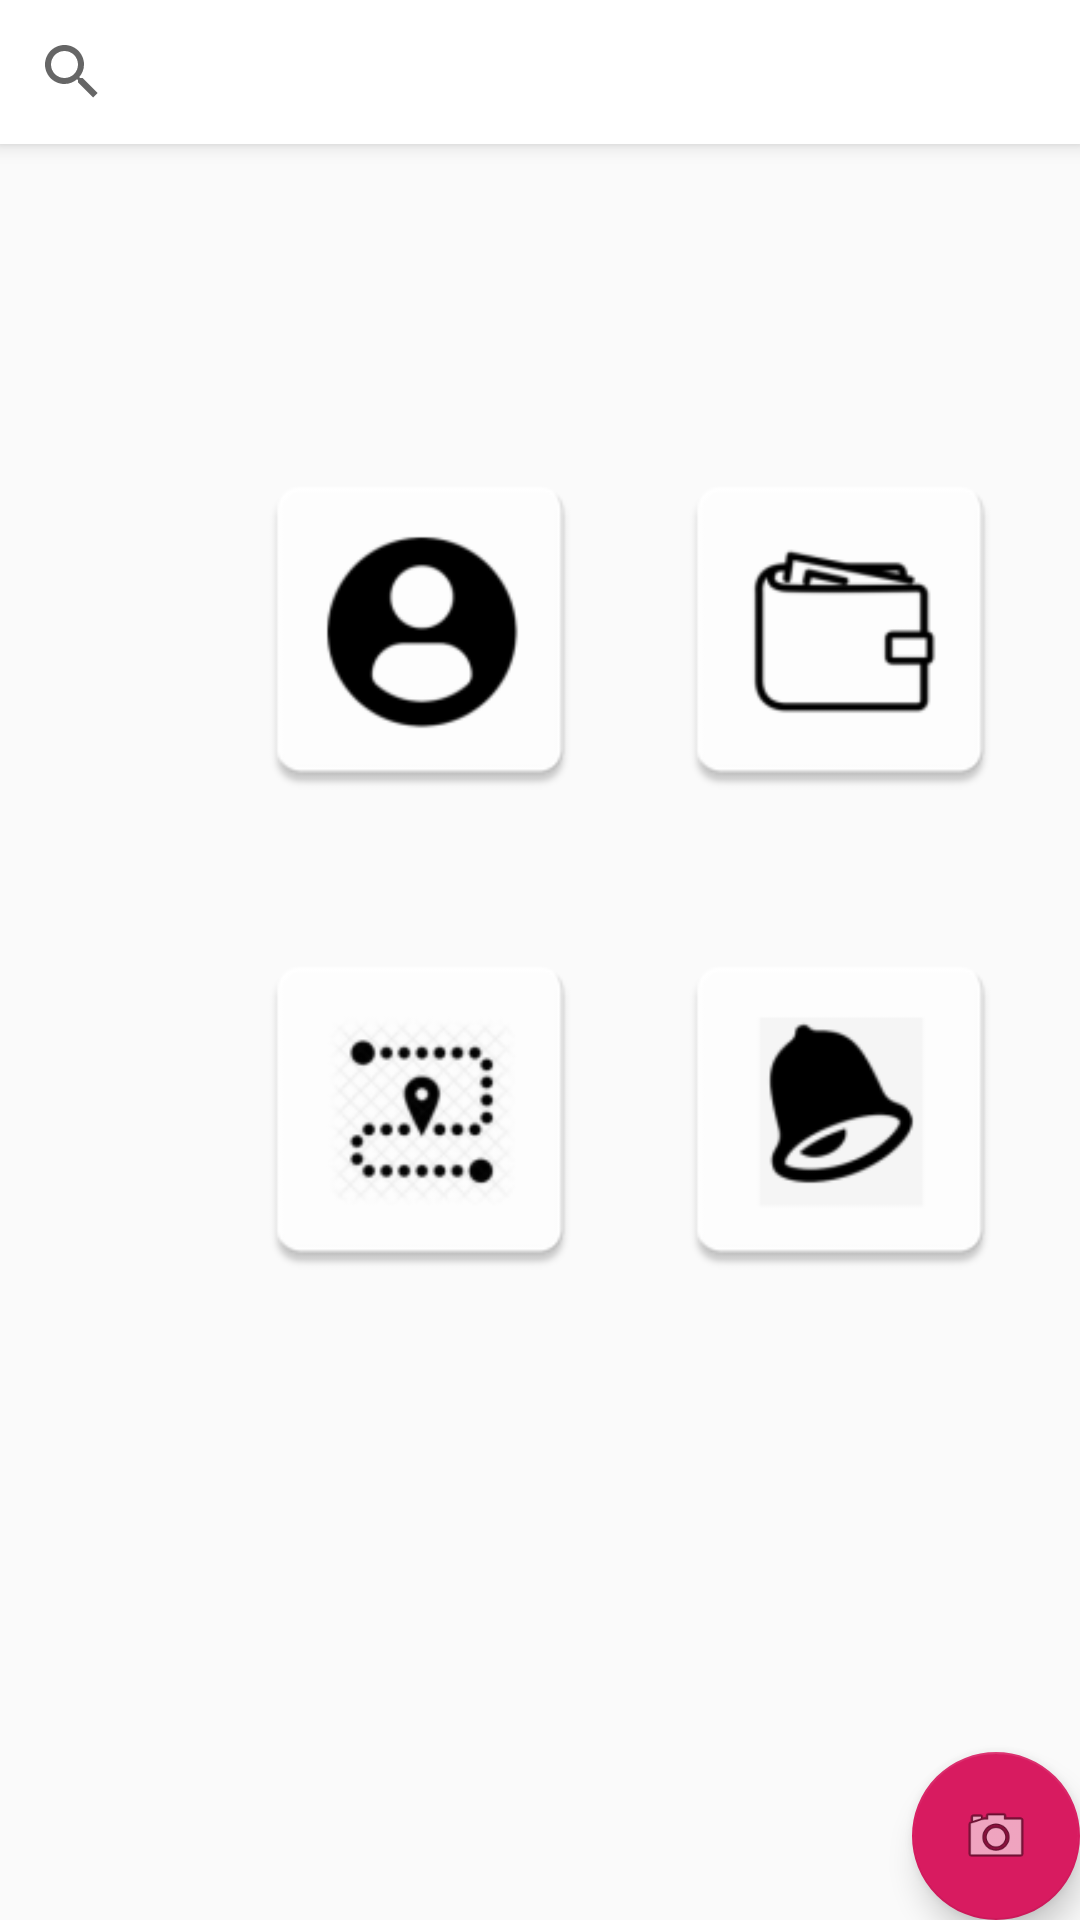

Named icons in this screenshot (1080px x 1920px) and their bounding boxes, (x1, y1, x2, y2):
camera: (912, 1752, 1080, 1920)
notify: (698, 984, 984, 1261)
profile: (278, 504, 564, 781)
track: (278, 984, 564, 1261)
wallet: (698, 504, 984, 781)
